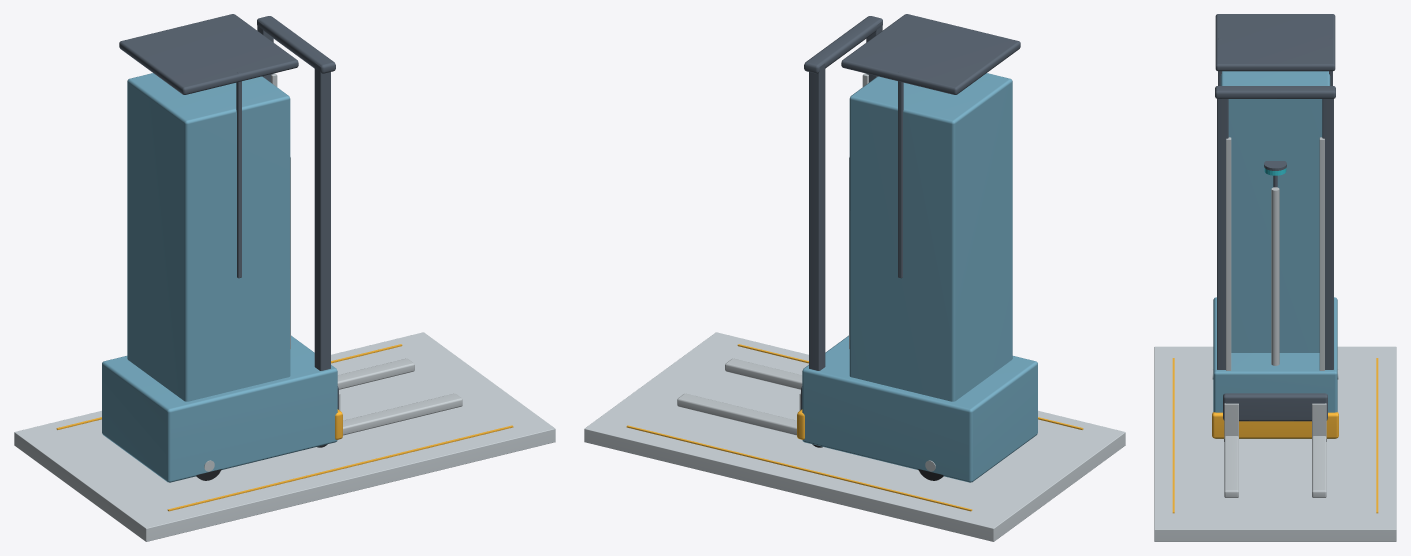
3 views of the same model, side by side, from view 1: azimuth 30°, elevation 25°; view 2: azimuth 150°, elevation 25°; view 3: azimuth 270°, elevation 25° (orthographic). The views are drawn at different scales.
Visible parts, largest first — view 1: Operator compartment and guard, Ground plane, Power unit, Overhead guard, Lift mast outer rail, Fork tine / pallet handling, Mast crosshead, Fork tine / pallet handling.001, Concept clearance guide, Overhead guard upright; view 2: Operator compartment and guard, Ground plane, Power unit, Overhead guard, Lift mast outer rail.001, Fork tine / pallet handling.001, Mast crosshead, Fork tine / pallet handling, Concept clearance guide.001, Overhead guard upright.001; view 3: Ground plane, Operator compartment and guard, Overhead guard, Power unit, Lift mast outer rail, Lift mast outer rail.001, Fork carriage, Front safety bumper, Hydraulic lift cylinder, Mast crosshead, Lift mast inner rail, Lift mast inner rail.001 (+6 smaller).
Boxes of the visible parts, x1,y1,x2,y2 form: Operator compartment and guard: (127, 73, 290, 401); Ground plane: (14, 332, 555, 541); Power unit: (102, 335, 337, 482); Overhead guard: (119, 14, 298, 94); Lift mast outer rail: (314, 62, 330, 370); Fork tine / pallet handling: (343, 393, 462, 435); Mast crosshead: (257, 16, 335, 73); Fork tine / pallet handling.001: (337, 358, 414, 389); Concept clearance guide: (167, 425, 513, 511); Overhead guard upright: (236, 71, 241, 278); Operator compartment and guard: (849, 73, 1012, 401); Ground plane: (584, 332, 1125, 541); Power unit: (802, 335, 1037, 482); Overhead guard: (841, 14, 1020, 94); Lift mast outer rail.001: (809, 62, 825, 370); Fork tine / pallet handling.001: (677, 393, 796, 435); Mast crosshead: (804, 16, 882, 73); Fork tine / pallet handling: (725, 358, 802, 389); Concept clearance guide.001: (626, 425, 972, 511); Overhead guard upright.001: (898, 71, 903, 278); Ground plane: (1154, 346, 1396, 541); Operator compartment and guard: (1220, 71, 1330, 352); Overhead guard: (1215, 14, 1335, 71); Power unit: (1213, 297, 1337, 438); Lift mast outer rail: (1217, 99, 1228, 369); Lift mast outer rail.001: (1322, 99, 1333, 369); Fork carriage: (1223, 393, 1327, 421); Front safety bumper: (1212, 412, 1338, 438); Hydraulic lift cylinder: (1271, 187, 1279, 365); Mast crosshead: (1215, 86, 1335, 98); Lift mast inner rail: (1226, 137, 1231, 370); Lift mast inner rail.001: (1319, 137, 1324, 370).
Bounding box in the file's own units: 3.77 × 3.62 × 2.1.
